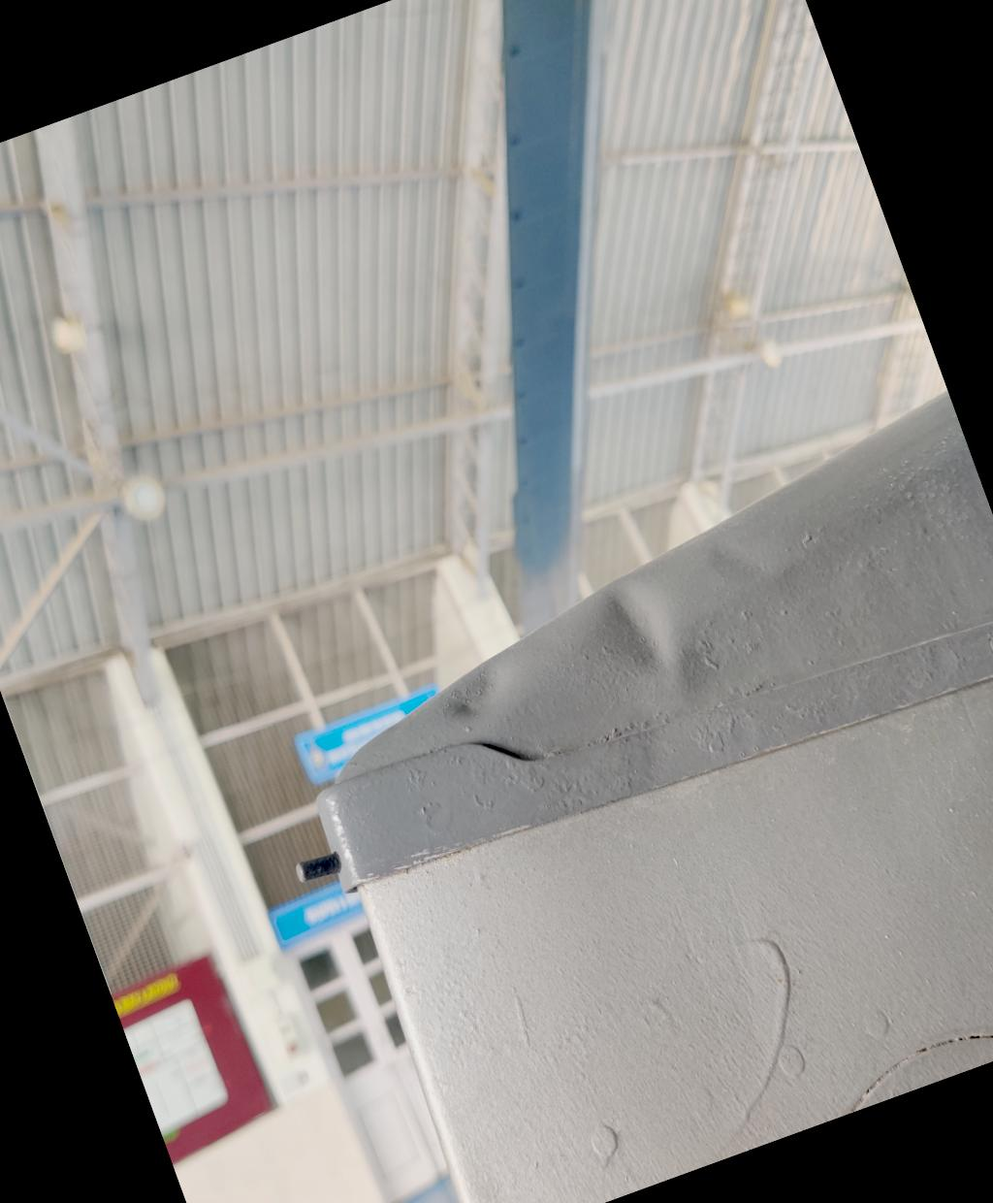dent: (575, 556, 700, 704), (424, 642, 527, 743)
